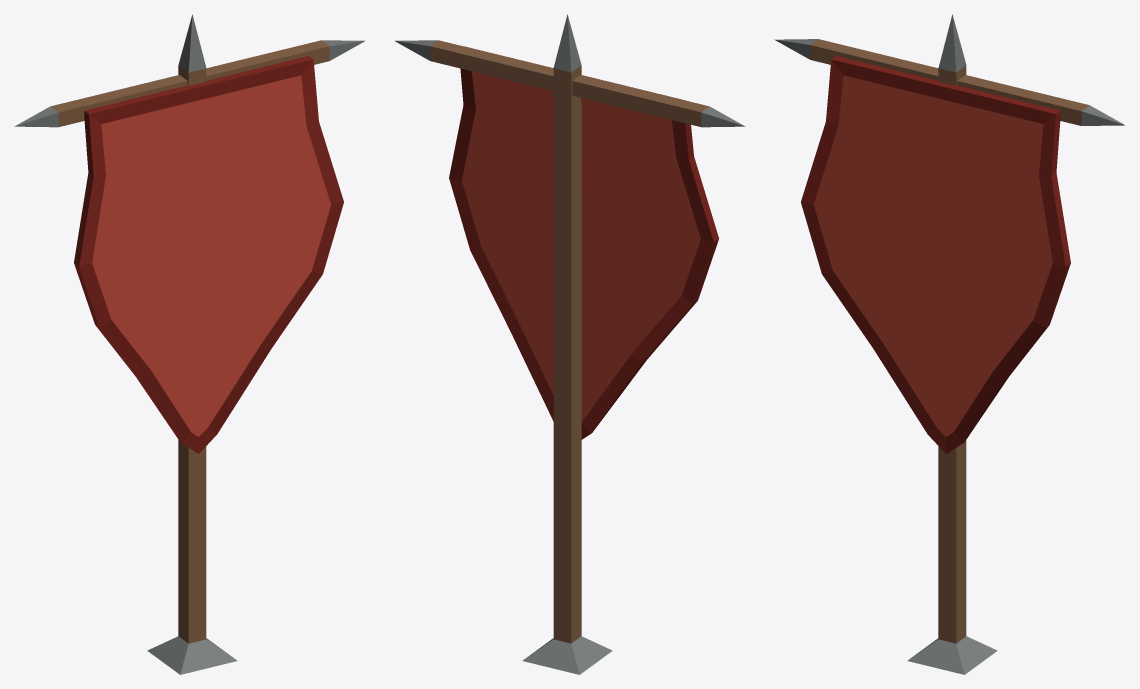
Rendered from Banner_3_Red.fbx.
3 renders of one model, left to right at view 1: azimuth 30°, elevation 25°; view 2: azimuth 150°, elevation 25°; view 3: azimuth 330°, elevation 25°, orthographic.
Visible parts, largest first — view 1: Banner_3_Red_Part_3, Banner_3_Red_Part_4, Banner_3_Red_Part_1, Banner_3_Red_Part_2; view 2: Banner_3_Red_Part_3, Banner_3_Red_Part_1, Banner_3_Red_Part_4, Banner_3_Red_Part_2; view 3: Banner_3_Red_Part_3, Banner_3_Red_Part_4, Banner_3_Red_Part_1, Banner_3_Red_Part_2.
Part boxes in pixels (x1,y1,x2,y2): Banner_3_Red_Part_3: (92,75,330,436); Banner_3_Red_Part_4: (74,56,343,453); Banner_3_Red_Part_1: (50,40,329,643); Banner_3_Red_Part_2: (14,14,364,674); Banner_3_Red_Part_3: (462,71,700,421); Banner_3_Red_Part_1: (430,40,709,643); Banner_3_Red_Part_4: (449,47,718,439); Banner_3_Red_Part_2: (395,14,745,674); Banner_3_Red_Part_3: (814,75,1052,436); Banner_3_Red_Part_4: (801,56,1070,453); Banner_3_Red_Part_1: (810,39,1089,643); Banner_3_Red_Part_2: (774,14,1124,674).
Bounding box in the file's own units: 172 × 300 × 30.33.
